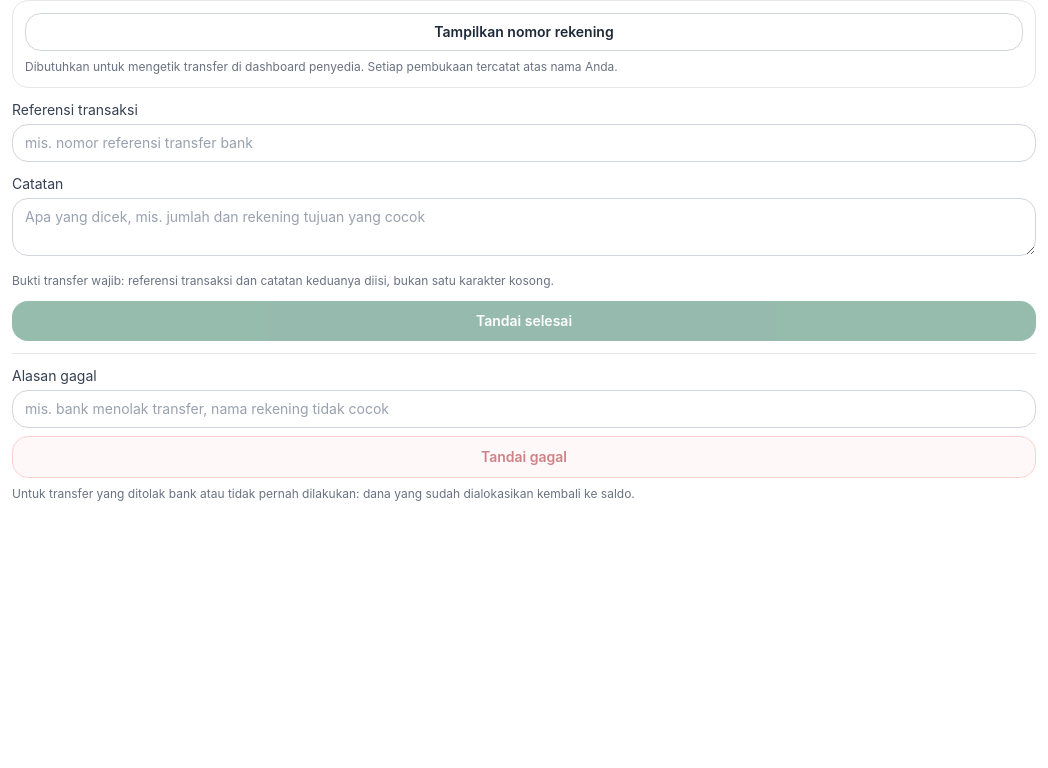
Test: AdminPayoutActionForm -- completing an APPROVED Payout (ticket 13: structured proof) › shows the server refusal in its own words
Type "TRX-001" into the field labelled "Referensi transaksi".
click(524, 143); type("TRX-001")  # box [12,124,1036,162]
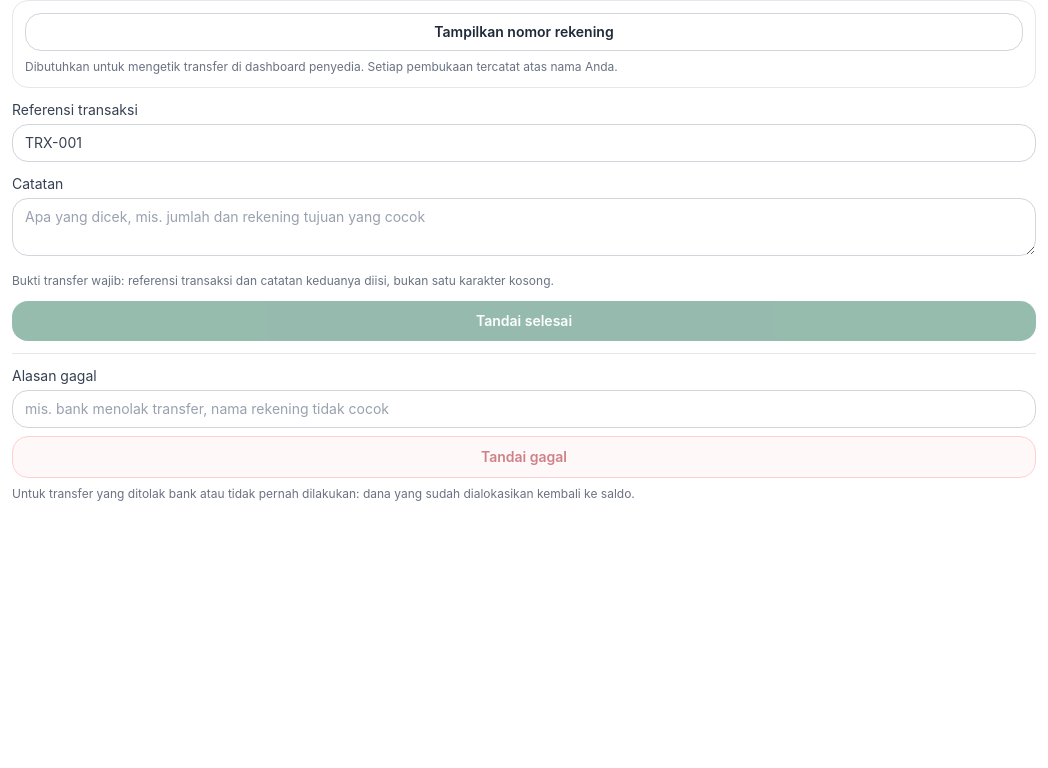
Type "Ditransfer via BCA" into the text box labelled "Catatan".
click(524, 227); type("Ditransfer via BCA")  # box [12,198,1036,256]
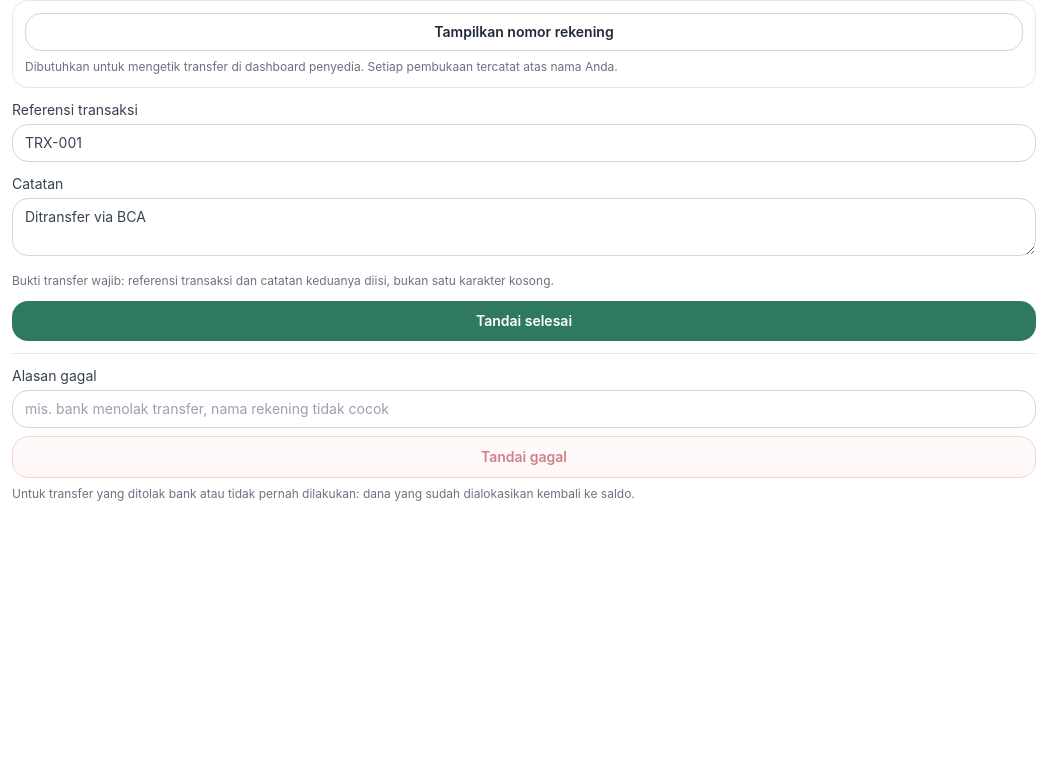
Click the button "Tandai selesai".
click(524, 321)  # box [12,301,1036,341]
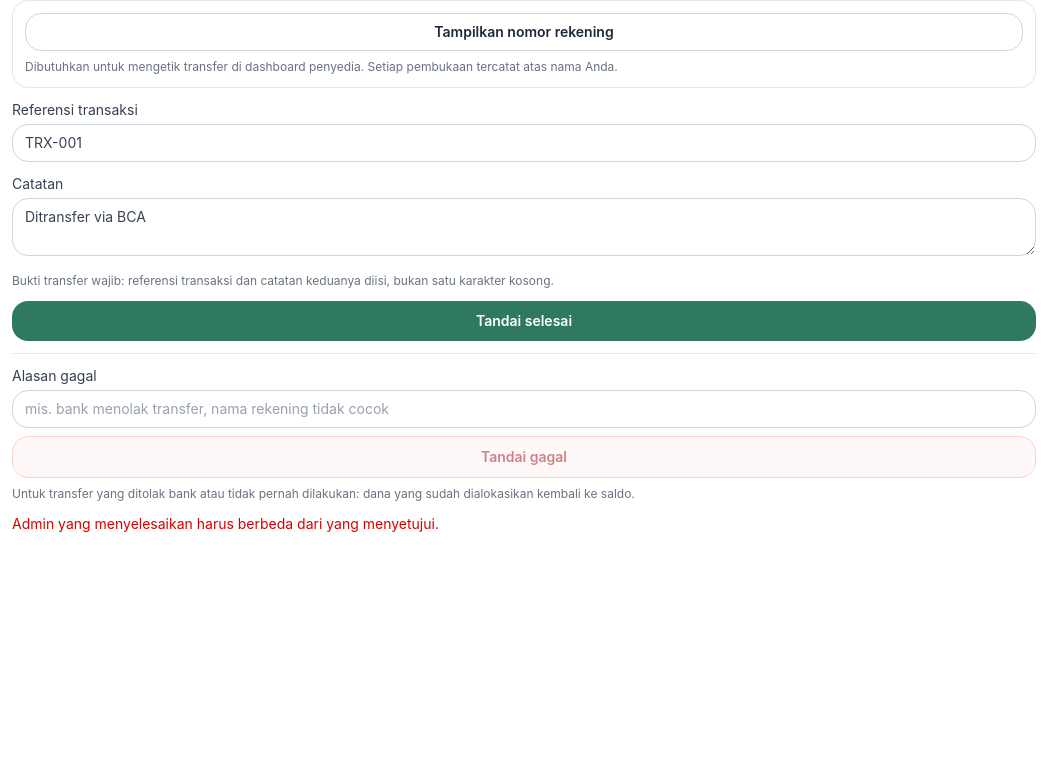
Now the message reads "Admin yang menyelesaikan harus berbeda dari yang menyetujui.", box [12,515,439,532]
